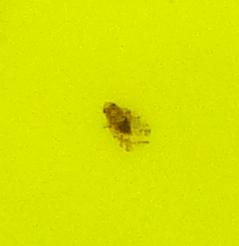Hemiptera: (100, 100, 139, 146)
